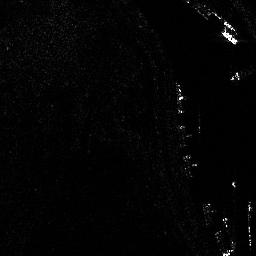ship: (222, 29, 237, 46)
